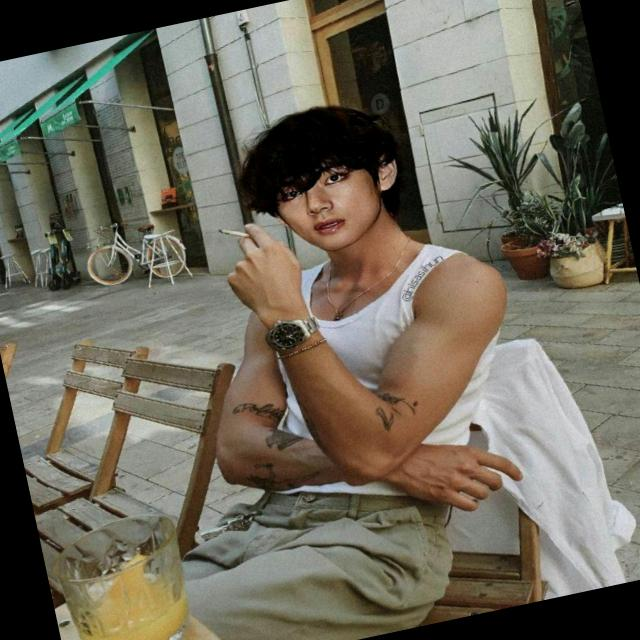cigarette: (205, 206, 260, 254)
